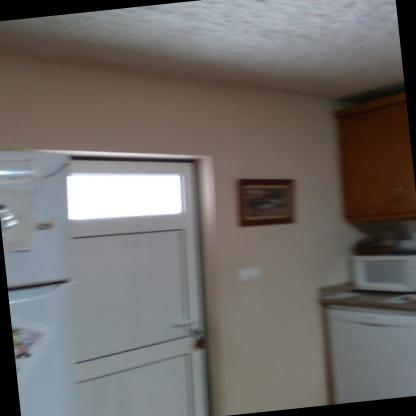closed: (52, 135, 248, 415)
